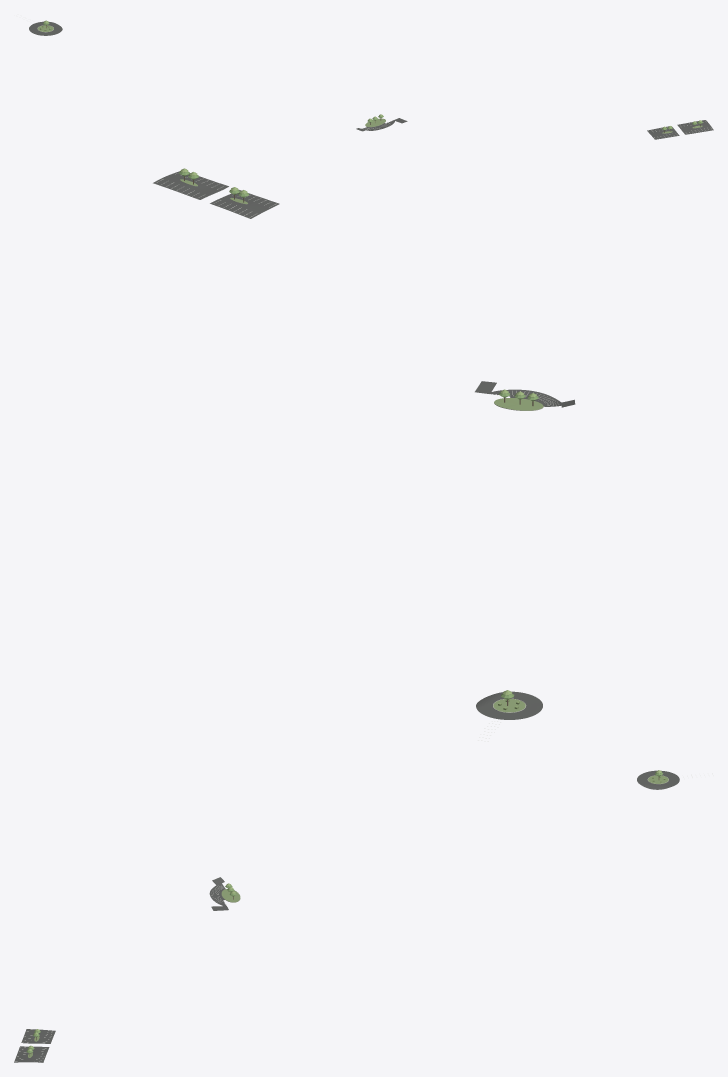
The picture shows the model from 3 angles, top to bottom: view 1: azimuth 30°, elevation 25°; view 2: azimuth 150°, elevation 25°; view 3: azimuth 270°, elevation 25°; orthographic projection. The views are drawn at different scales.
Visible parts, largest first — view 1: claude1107-forecourts__sanhakParkingApron, claude1107-forecourts__hqTurningLoop; view 2: claude1107-forecourts__sanhakParkingApron, claude1107-forecourts__hqTurningLoop; view 3: claude1107-forecourts__sanhakParkingApron, claude1107-forecourts__hqTurningLoop.
Part boxes in pixels (x1,y1,x2,y2): claude1107-forecourts__sanhakParkingApron: [647, 120, 713, 139]; claude1107-forecourts__hqTurningLoop: [29, 21, 62, 35]; claude1107-forecourts__sanhakParkingApron: [153, 171, 279, 218]; claude1107-forecourts__hqTurningLoop: [476, 691, 542, 719]; claude1107-forecourts__sanhakParkingApron: [14, 1029, 55, 1062]; claude1107-forecourts__hqTurningLoop: [637, 770, 679, 789].
Bounding box in the file's own units: 373 × 21.65 × 408.
